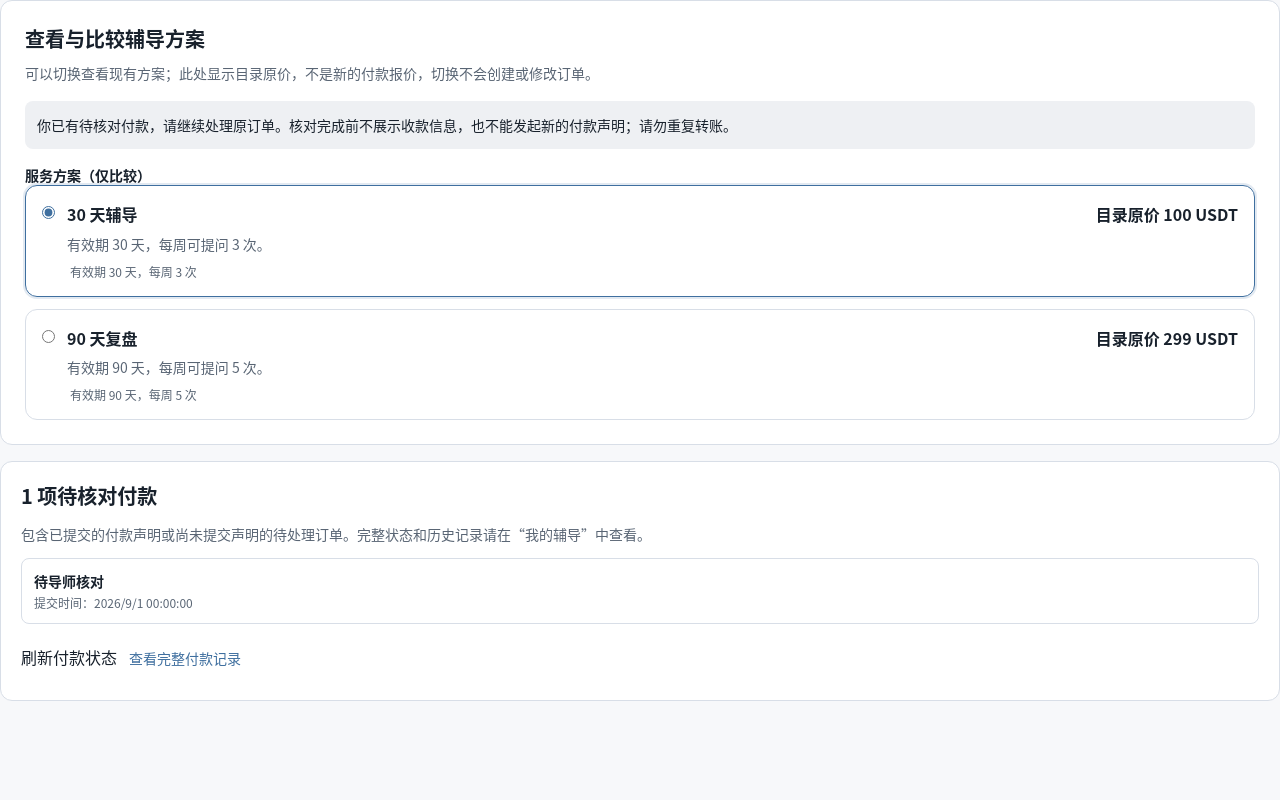
Test: mentor payment reliability › keeps offer comparison available during claim without exposing a new payment route
Check: the text "可以切换查看现有方案；此处显示目录原价，不是新的付款报价，切换不会创建或修改订单。" is shown, box [25,63,599,83]
Check: the text "你已有待核对付款，请继续处理原订单。核对完成前不展示收款信息，也不能发起新的付款声明；请勿重复转账。" is shown, box [25,101,1255,149]
Click the radio button labelled "90 天复盘 有效期 90 天，每周可提问 5 次。 目录原价 299 USDT 有效期 90 天，每周 5 次": (48, 336) [42,330,55,343]
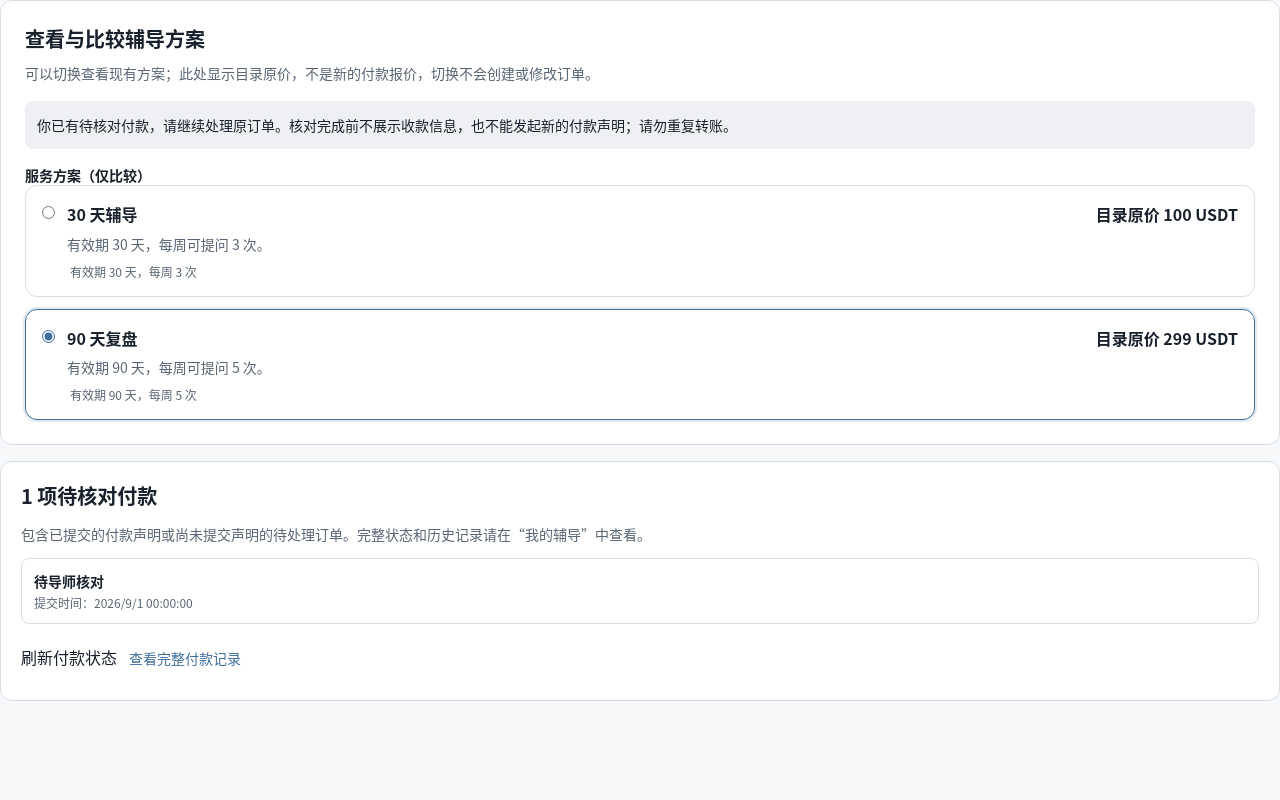
Check: the radio button labelled "90 天复盘 有效期 90 天，每周可提问 5 次。 目录原价 299 USDT 有效期 90 天，每周 5 次" is checked, box [42,330,55,343]
Check: the radio button labelled "30 天辅导 有效期 30 天，每周可提问 3 次。 目录原价 100 USDT 有效期 30 天，每周 3 次" is not checked, box [42,206,55,219]
